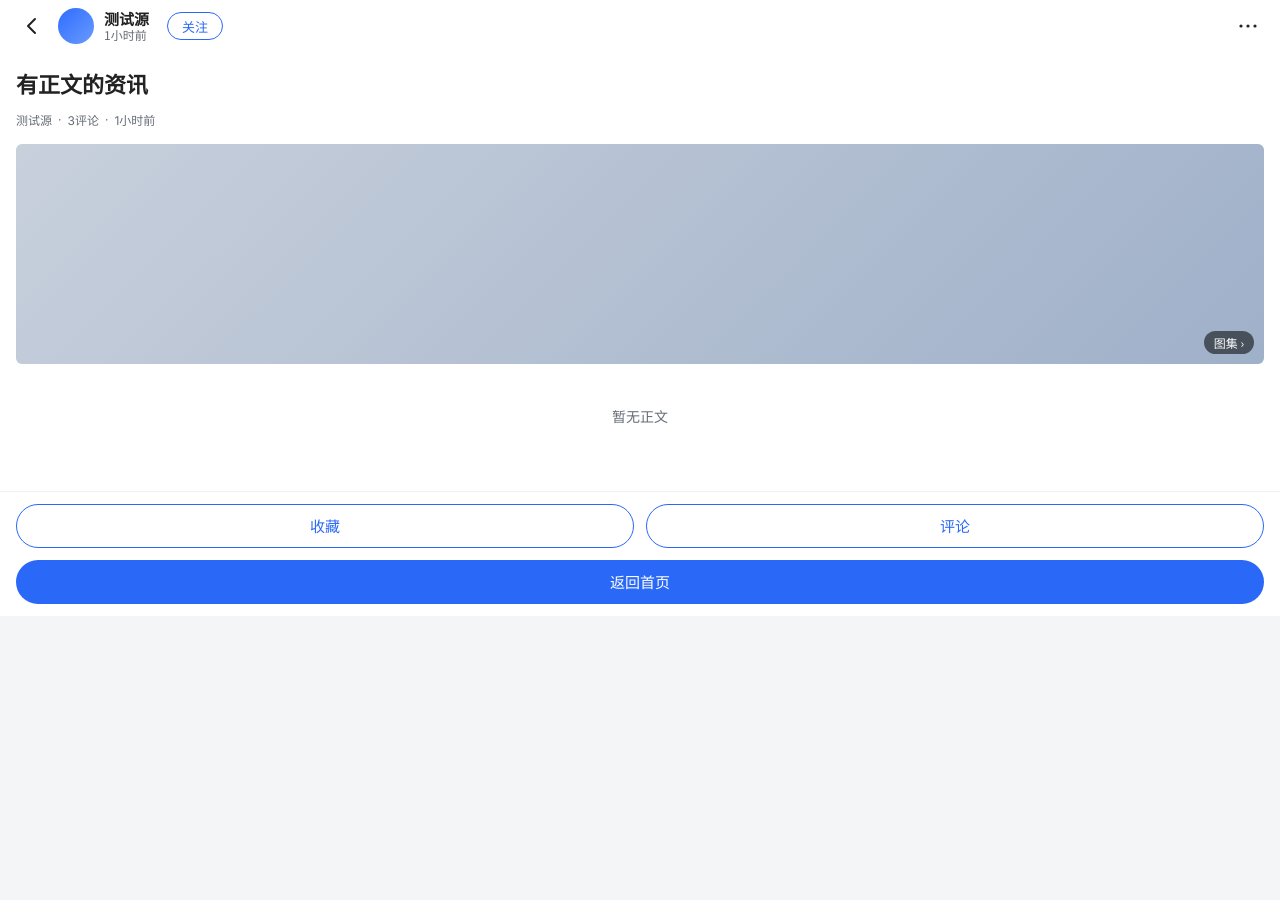
views/NewsDetail 关注来源（E6b） › 关注失败时把原因显示出来（不默默吞掉，用户会以为点了没反应）
This screenshot has width=1280, height=900.
What coordinates should you click on to do the following:
click the button with class "mt-nav__follow"
I would click on:
 (195, 26)
Its box is [167,12,223,40].
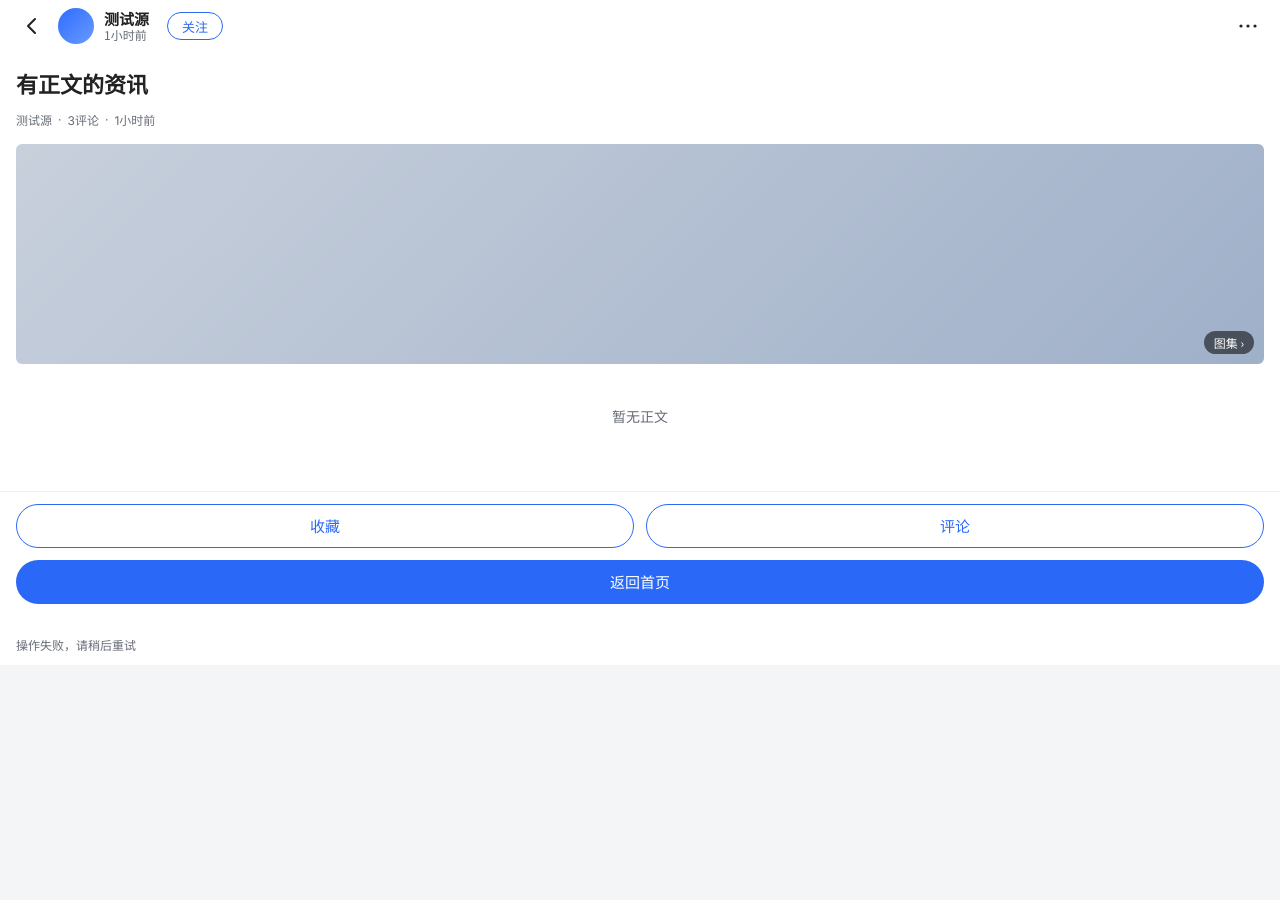
Check: the message with class "detail__hint" shows "操作失败", box [16,636,136,653]
